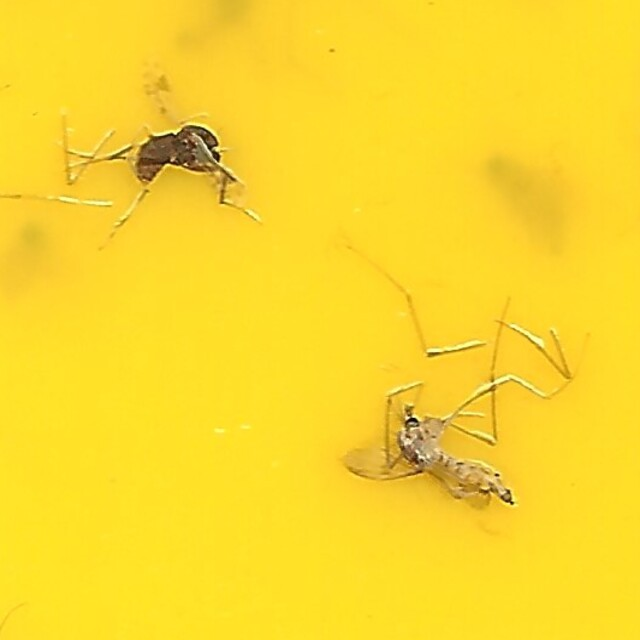Nematocera: (343, 397, 520, 519), (120, 121, 238, 198)
